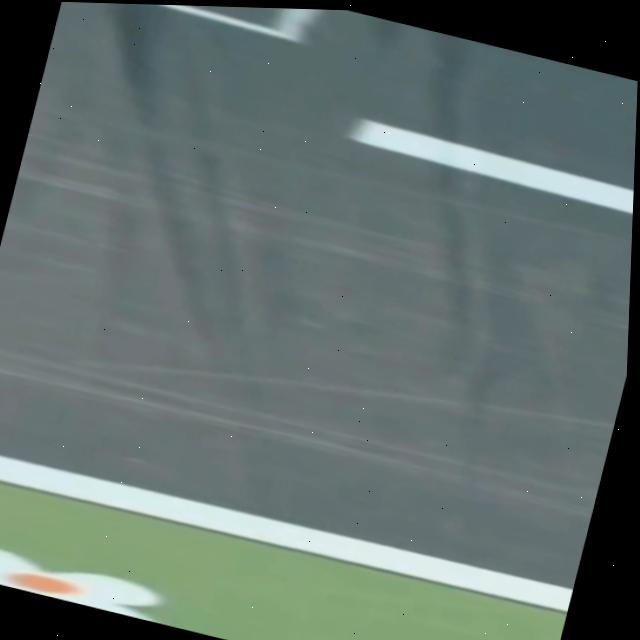center: (349, 117, 634, 212)
right: (0, 454, 573, 610)
